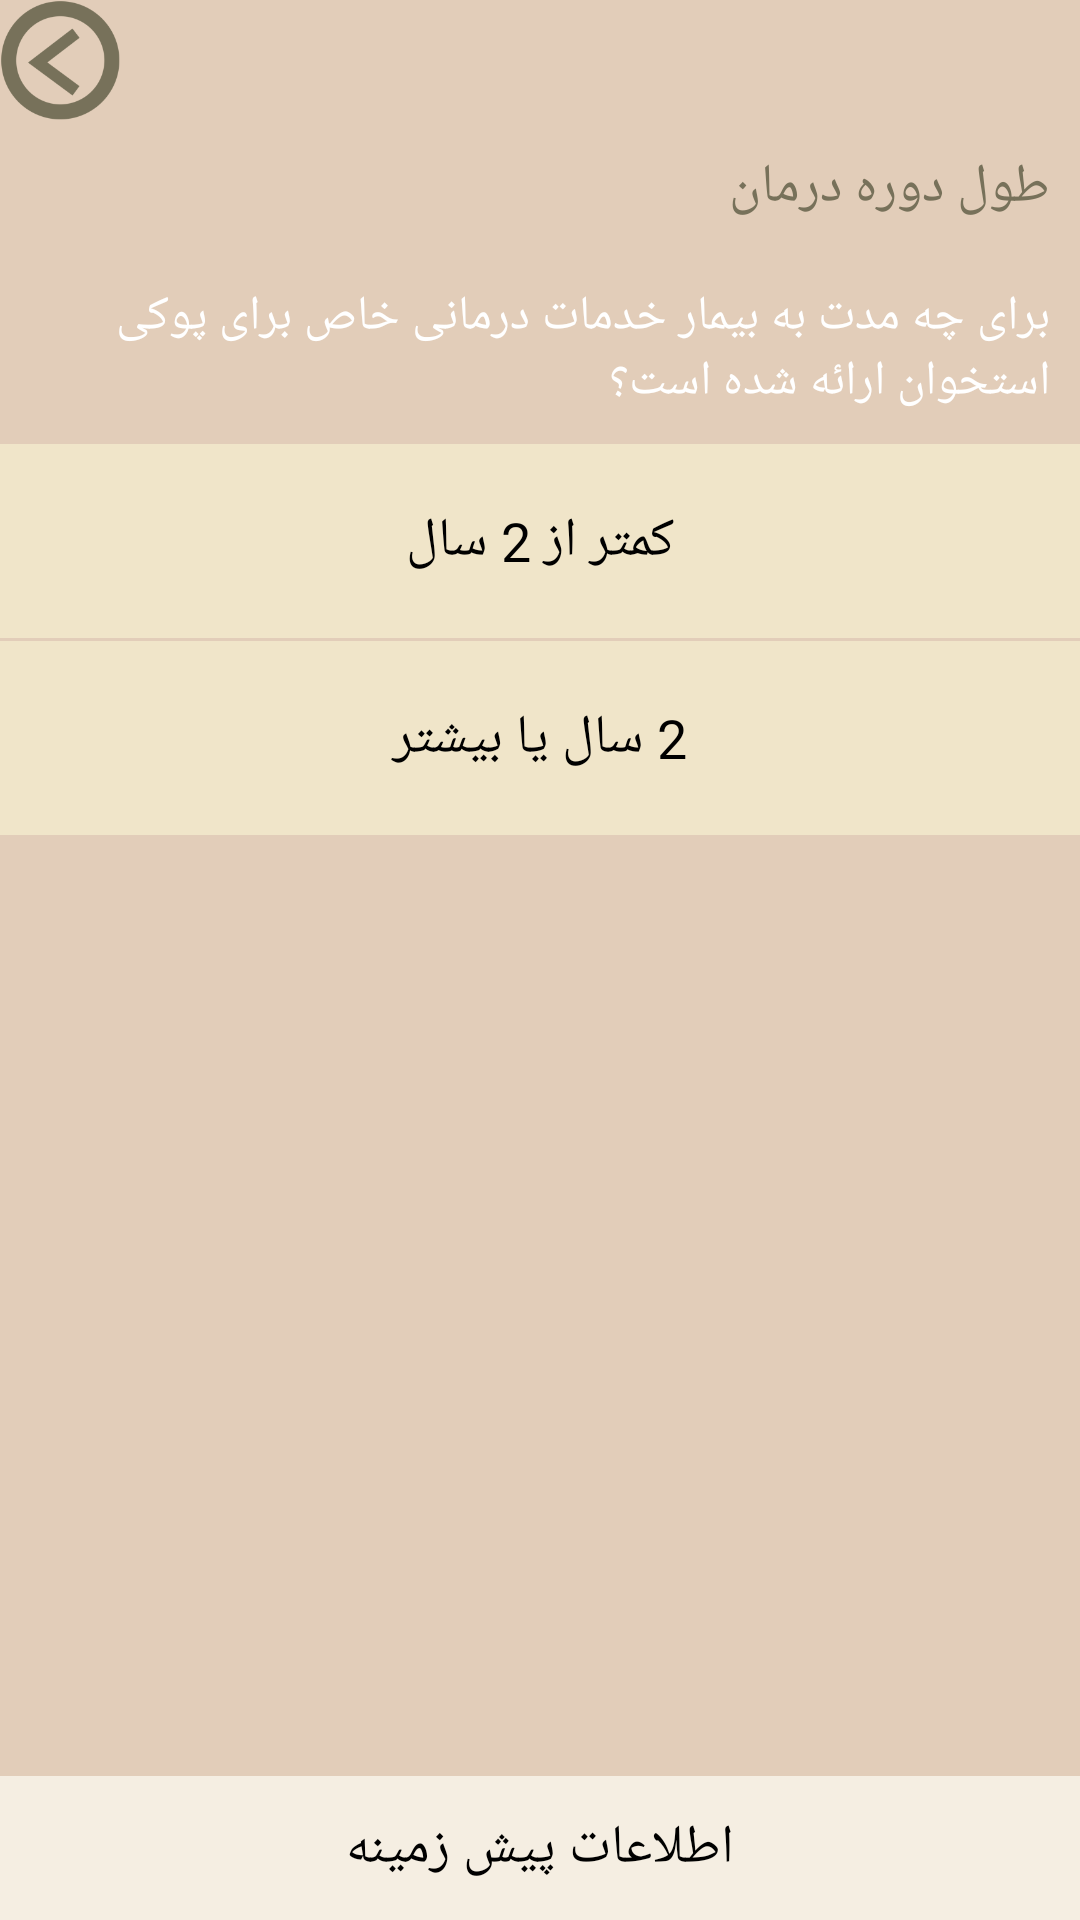

Named icons in this screenshot (1080 × 1920) and their bounding boxes, {"left": x1, "top": y1, "right": x2, "bottom": y2}:
arrow left: {"left": 1, "top": 1, "right": 120, "bottom": 120}
